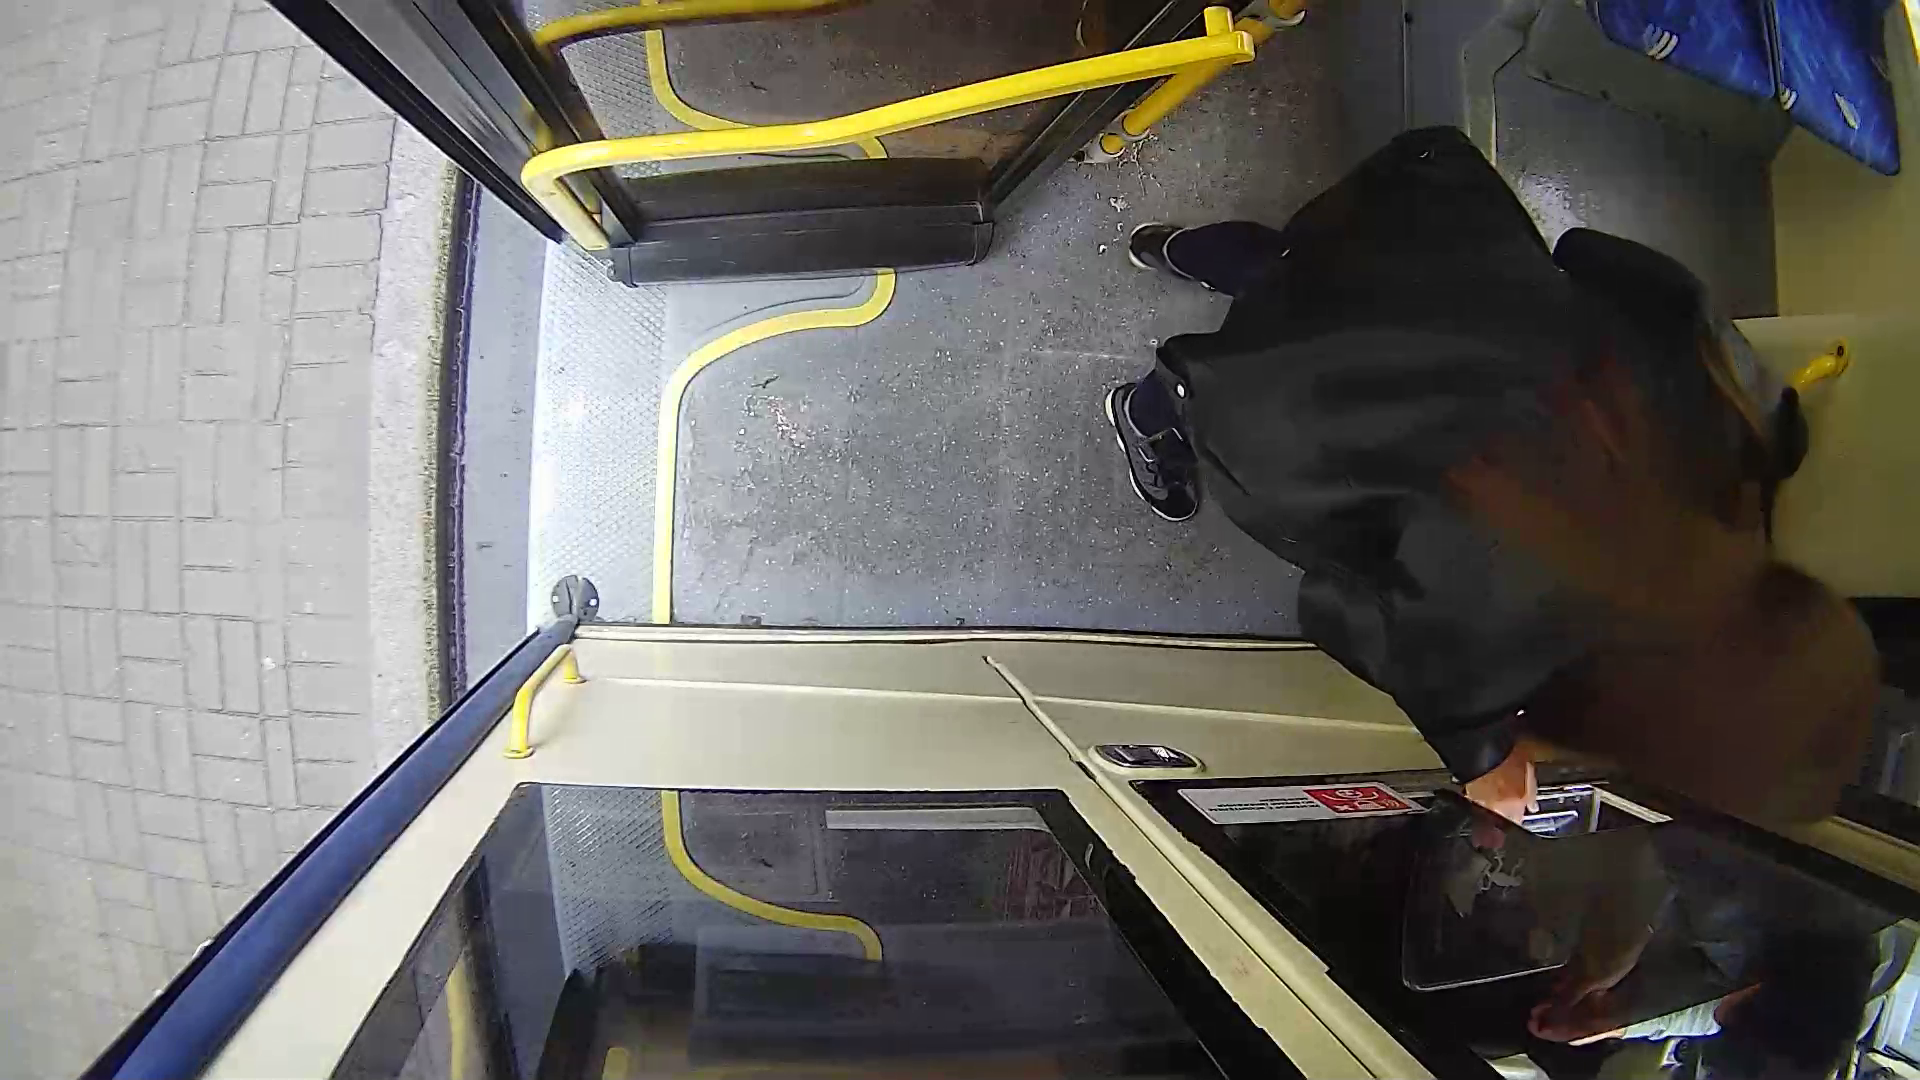person: (1015, 141, 1887, 861)
